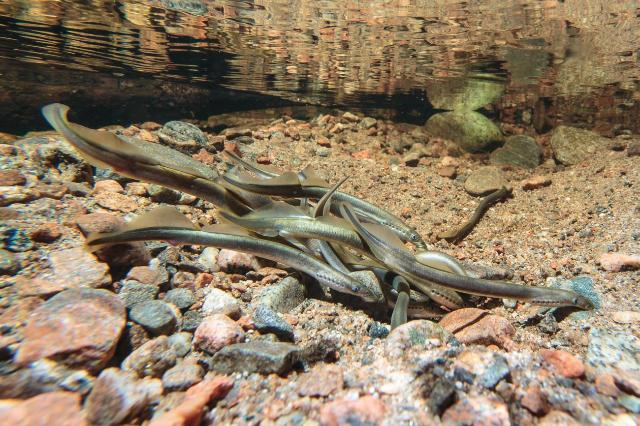Sirip Ekor: (225, 164, 303, 212), (68, 213, 120, 278), (30, 94, 90, 142), (203, 198, 257, 240), (333, 192, 377, 242)
